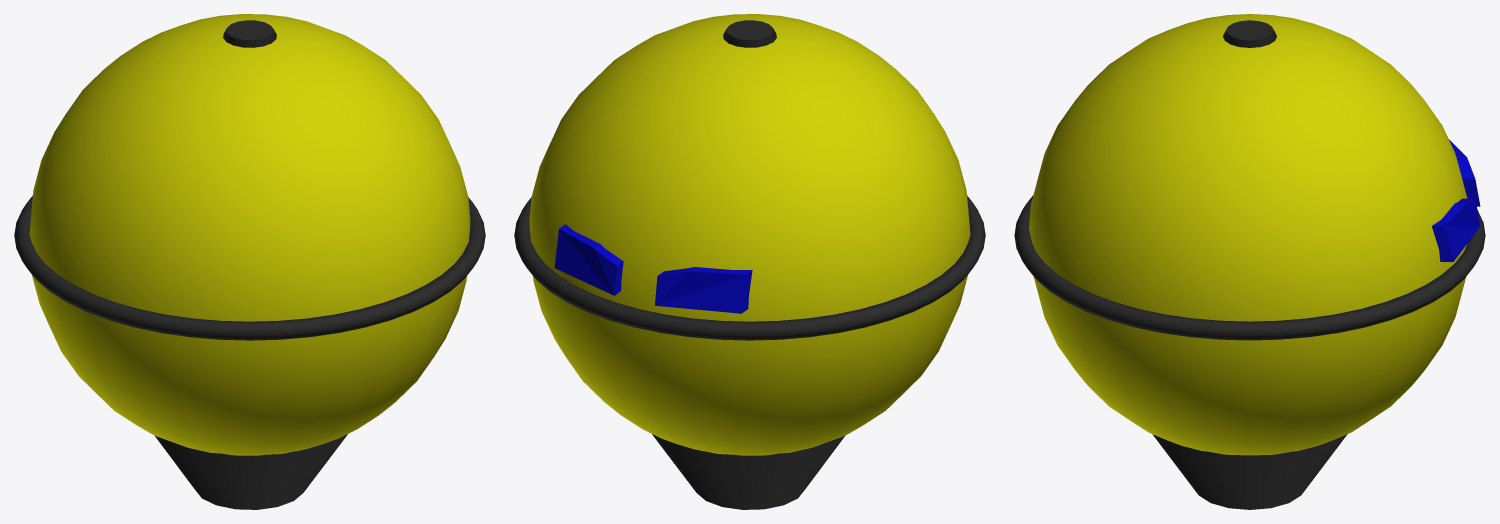
Rendered from boss_eclipse.obj.
The picture shows the model from 3 angles, left to right: view 1: azimuth 30°, elevation 25°; view 2: azimuth 150°, elevation 25°; view 3: azimuth 270°, elevation 25°; orthographic projection.
Visible parts, largest first — view 1: body, frame; view 2: body, frame, eye; view 3: body, frame, eye.
Part boxes in pixels (x1,y1,x2,y2): body: (29, 14, 470, 455); frame: (14, 20, 485, 509); body: (529, 14, 970, 455); frame: (514, 20, 985, 509); eye: (554, 224, 752, 313); body: (1029, 14, 1467, 455); frame: (1014, 20, 1485, 509); eye: (1432, 139, 1480, 261).
Bounding box in the file's own units: 2.98 × 3.18 × 2.98.
